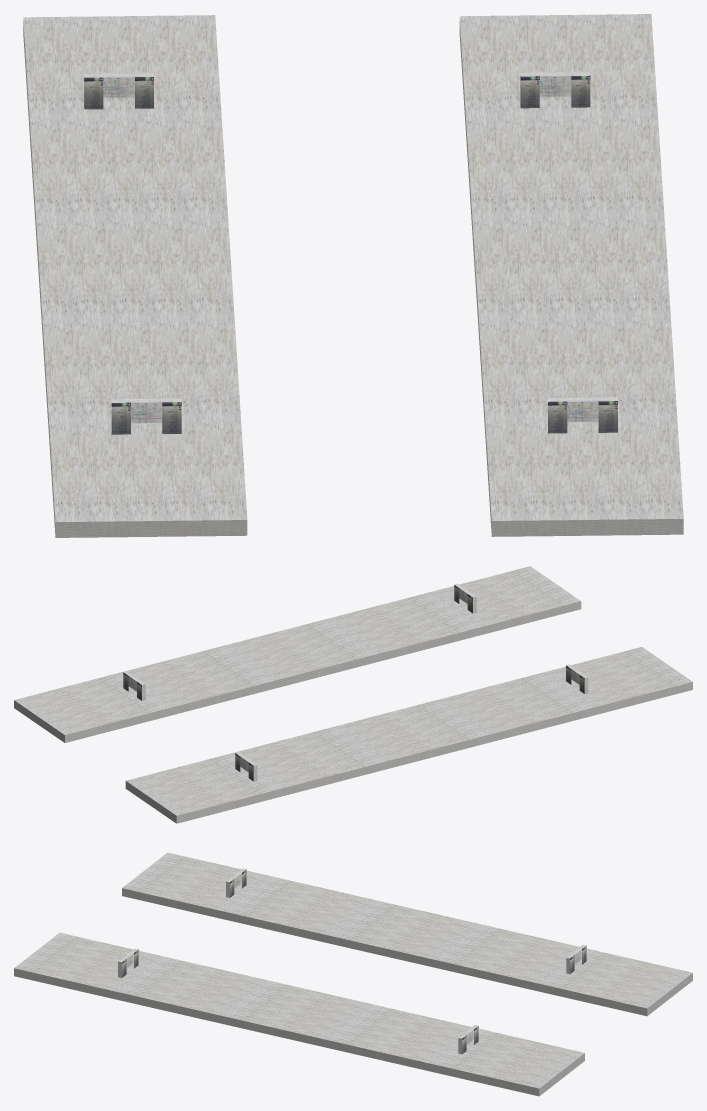
The model's file is zhantai.gltf.
3 views of the same model, one above another, from view 1: azimuth 30°, elevation 25°; view 2: azimuth 150°, elevation 25°; view 3: azimuth 270°, elevation 25° (orthographic). The views are drawn at different scales.
Parts seen in each view (by area): view 1: Box070, Box001, Box069, Box126, Box127, Box003; view 2: Box070, Box001, Box126, Box127, Box003; view 3: Box070, Box001.
Part boxes in pixels (x1=…): Box070: x1=459, y1=14, x2=683, y2=536; Box001: x1=23, y1=15, x2=247, y2=537; Box069: x1=520, y1=72, x2=590, y2=108; Box126: x1=111, y1=398, x2=181, y2=434; Box127: x1=548, y1=397, x2=617, y2=433; Box003: x1=84, y1=73, x2=153, y2=109; Box070: x1=14, y1=566, x2=581, y2=742; Box001: x1=125, y1=647, x2=692, y2=823; Box126: x1=566, y1=664, x2=588, y2=693; Box127: x1=454, y1=584, x2=476, y2=613; Box003: x1=235, y1=752, x2=257, y2=781; Box070: x1=14, y1=932, x2=584, y2=1096; Box001: x1=122, y1=852, x2=692, y2=1016.
Size of the model in its own units: 384 by 18.22 by 467.
Materials: 14 (14 with a texture image).
